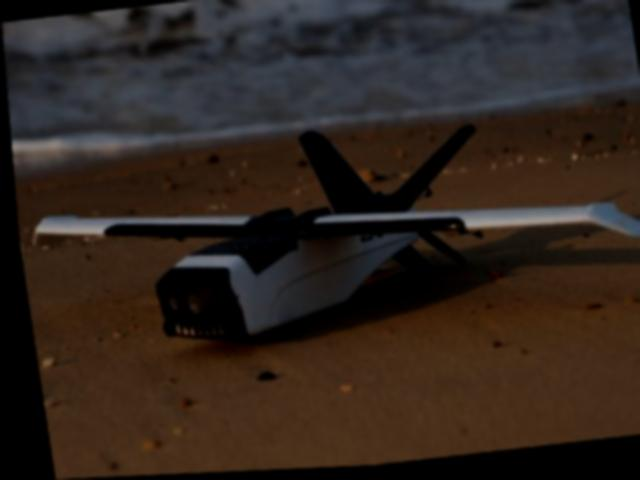uav: (17, 98, 640, 364)
